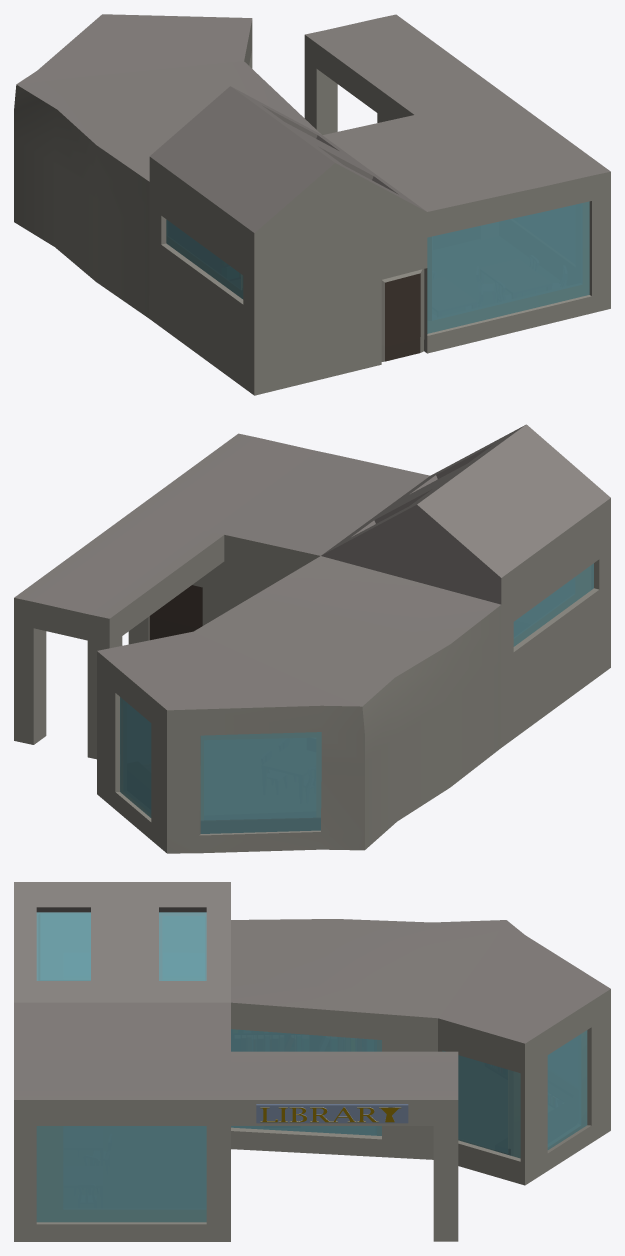
Rendered from Library_Interior_andEx.fbx.
3 renders of one model, top to bottom at view 1: azimuth 30°, elevation 25°; view 2: azimuth 150°, elevation 25°; view 3: azimuth 270°, elevation 25°, orthographic. The views are drawn at different scales.
Parts seen in each view (by area): view 1: Library_Building; view 2: Library_Building, Shelves_and_books; view 3: Library_Building.
Part boxes in pixels (x1,y1,x2,y2): Library_Building: (14, 14, 610, 395); Library_Building: (14, 424, 610, 853); Shelves_and_books: (201, 818, 320, 833); Library_Building: (14, 882, 610, 1241).
Bounding box in the file's own units: 4499 × 2540 × 6193.
